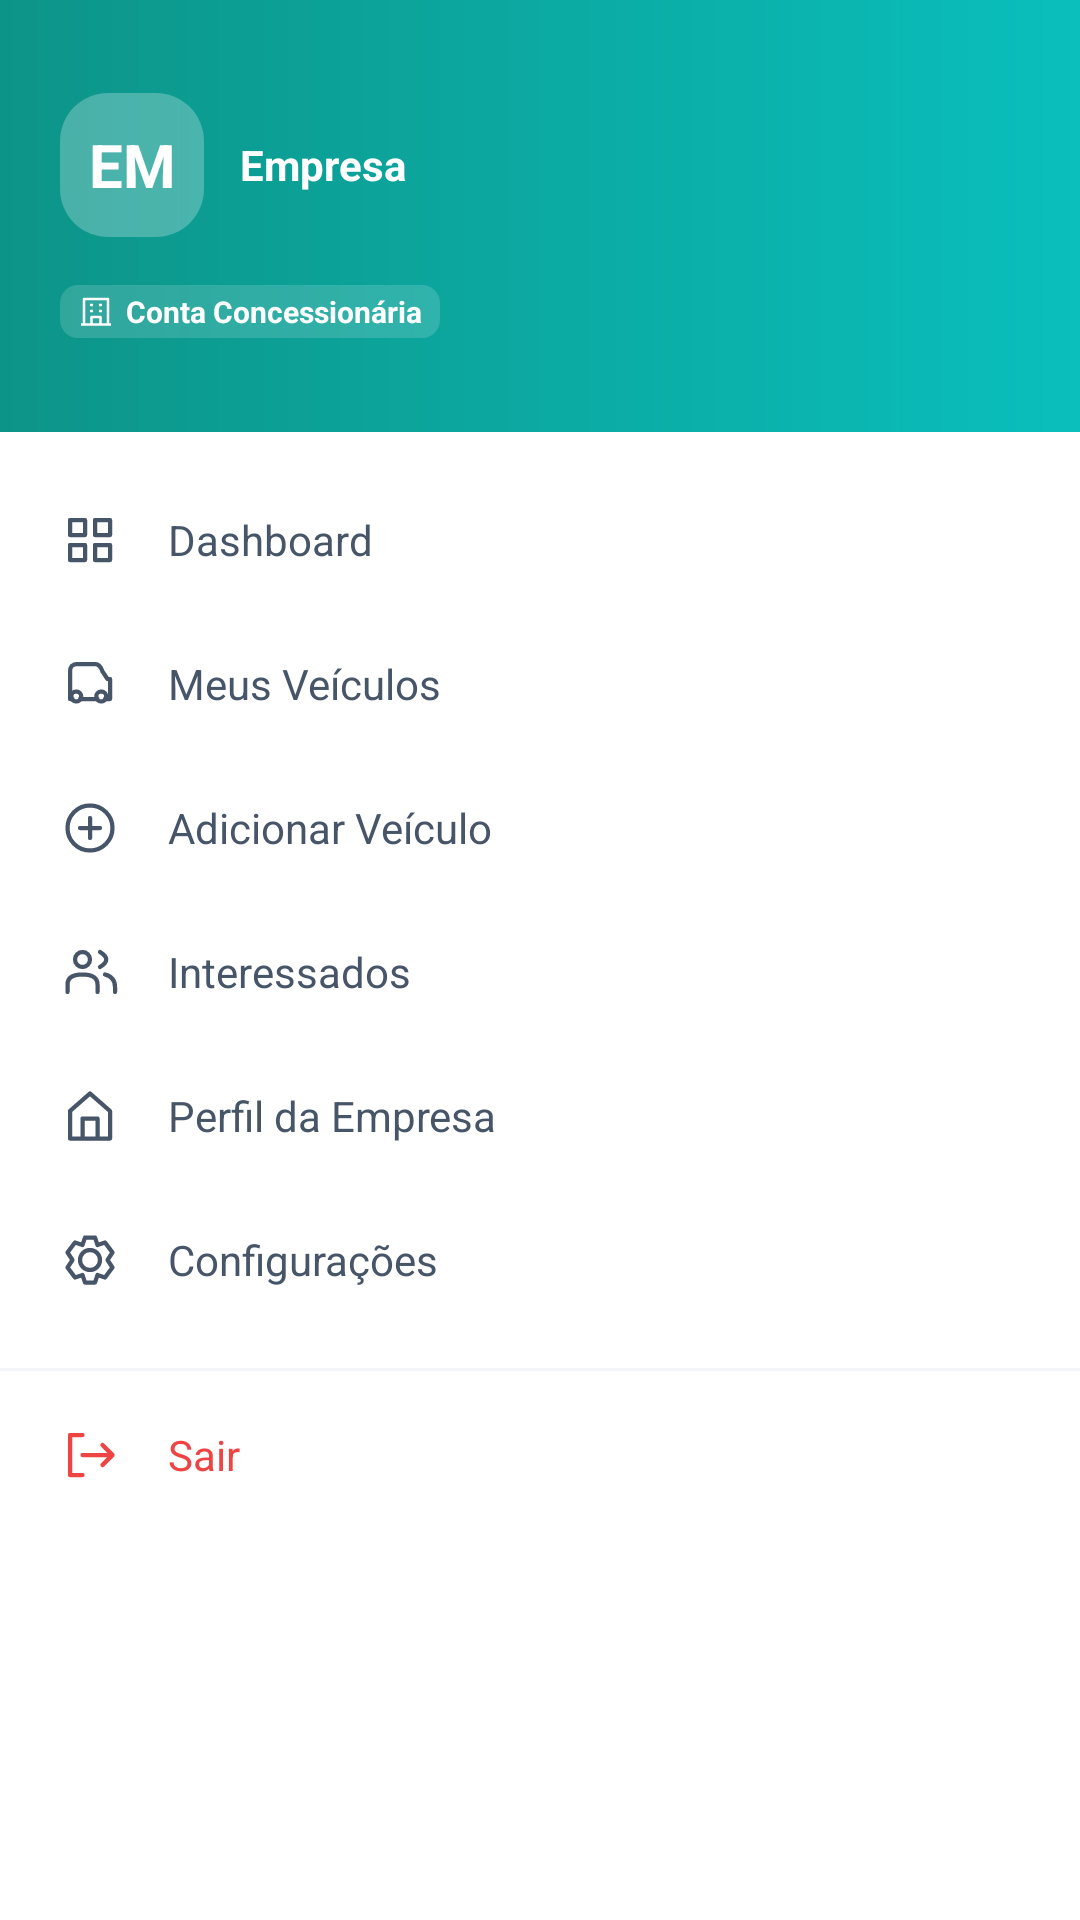

Icon click points for this 1080x1920 phone screenshot, format (x=x, y=y):
dealer add: (x=90, y=828)
dealer contacts: (x=91, y=972)
dealer settings: (x=90, y=1260)
dealer vehicles: (x=90, y=683)
user dealership: (x=96, y=311)
